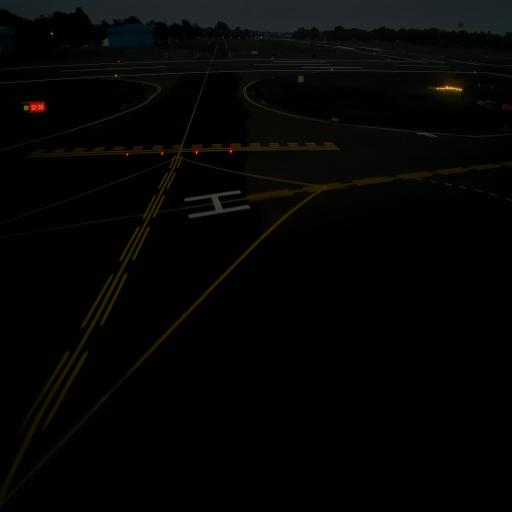on: (123, 150, 131, 160), (195, 148, 200, 160), (228, 146, 233, 158), (160, 149, 166, 158)
